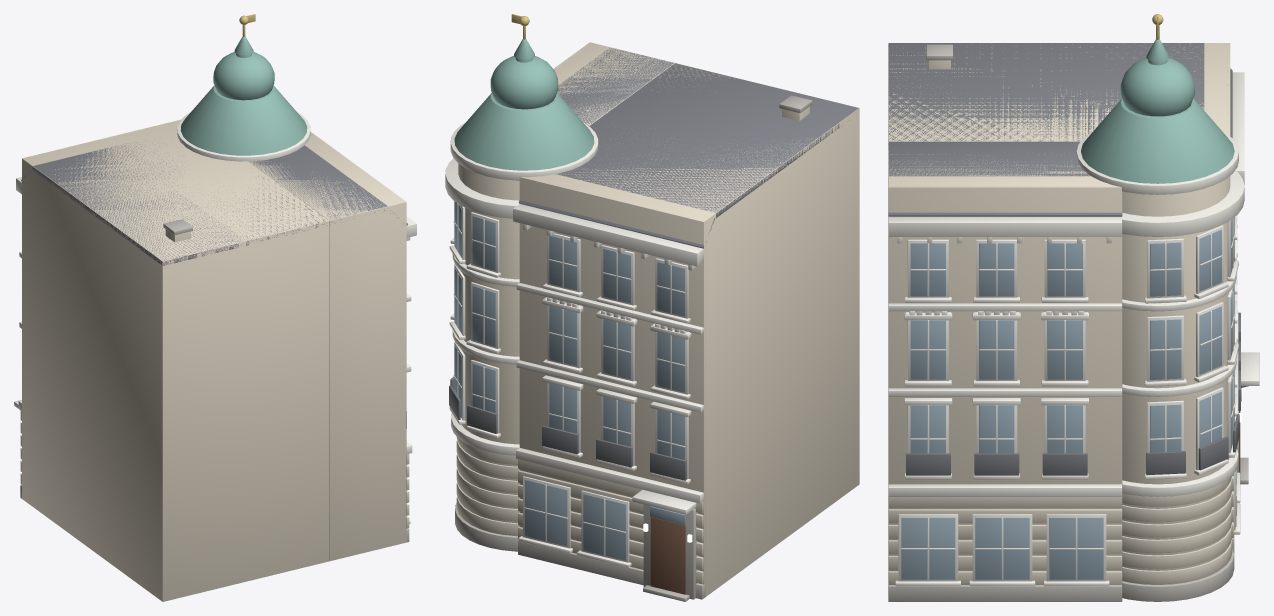
Rendered from th22_altbau_eck.glb.
3 renders of one model, left to right at view 1: azimuth 30°, elevation 25°; view 2: azimuth 150°, elevation 25°; view 3: azimuth 270°, elevation 25°, orthographic. The views are drawn at different scales.
Parts seen in each view (by area): view 1: Cube, Cube.001, Cube.308, Cone, Cube.309, Sphere, Cylinder.012, Cube.003; view 2: Cube, Cube.308, Cylinder, Cone, Cube.309, Cube.001, Cube.024, Sphere, Cube.043, Cube.052, Cube.057, Cube.018 (+37 smaller); view 3: Cube.001, Cube.308, Cylinder, Cube, Cone, Cube.309, Cube.025, Cube.005, Sphere, Cube.067, Cube.072, Cube.062 (+57 smaller).
Boxes of the visible parts, x1,y1,x2,y2 form: Cube: (22, 119, 329, 601); Cube.001: (248, 132, 406, 561); Cube.308: (32, 140, 328, 265); Cone: (180, 85, 307, 155); Cube.309: (249, 145, 387, 224); Sphere: (213, 52, 274, 100); Cylinder.012: (177, 112, 310, 161); Cube.003: (311, 133, 406, 542); Cube: (519, 63, 859, 596); Cube.308: (556, 63, 858, 217); Cylinder: (458, 163, 519, 536); Cone: (454, 93, 594, 170); Cube.309: (557, 48, 673, 125); Cube.001: (553, 42, 674, 125); Cube.024: (513, 204, 703, 266); Sphere: (490, 56, 558, 109); Cube.043: (650, 517, 685, 594); Cube.052: (583, 494, 626, 560); Cube.057: (525, 479, 567, 546); Cube.018: (516, 448, 703, 503); Cube.001: (888, 142, 1122, 571); Cube.308: (888, 43, 1204, 141); Cylinder: (1122, 176, 1230, 584); Cube: (888, 43, 1230, 141); Cone: (1081, 98, 1234, 183); Cube.309: (888, 141, 1090, 176); Cube.025: (888, 216, 1122, 236); Cube.005: (888, 585, 1122, 601); Sphere: (1120, 58, 1194, 116); Cube.067: (975, 517, 1029, 579); Cube.072: (1049, 517, 1103, 579); Cube.062: (901, 517, 955, 579).
Size of the model in its own units: 12.5 by 21.5 by 13.02.
